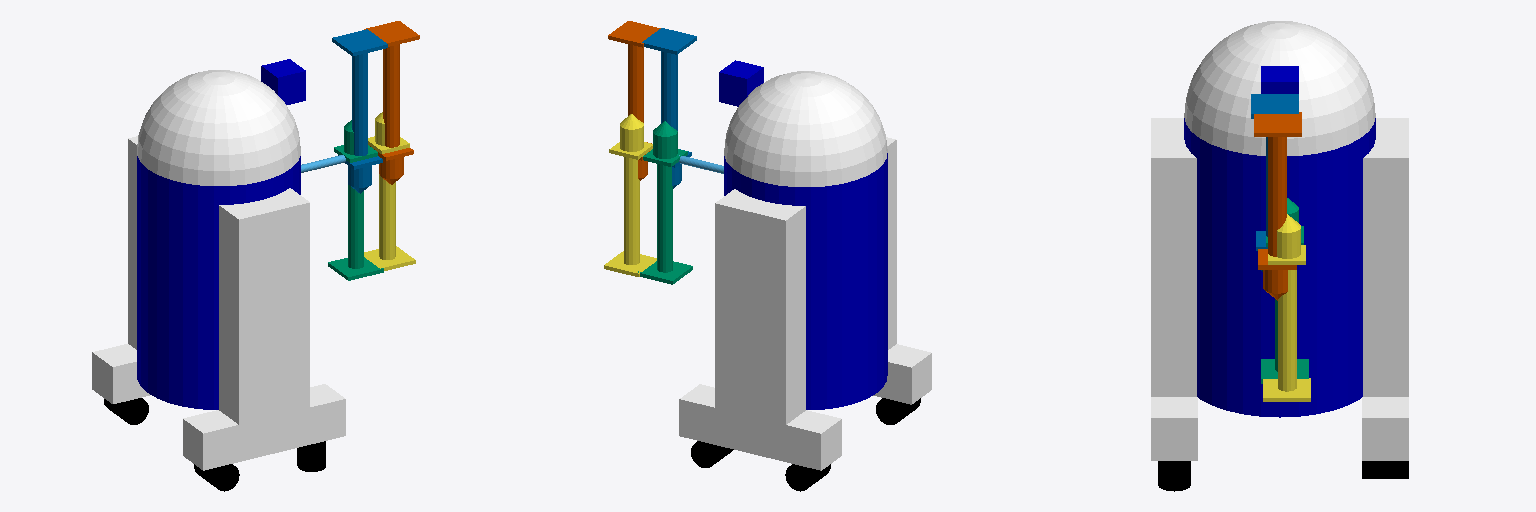
robot.urdf — visual:
<?xml version="1.0"?>
<robot name="visual">

<material name="blue">
    <color rgba="0 0 0.8 1"/>
  </material>
  <material name="black">
    <color rgba="0 0 0 1"/>
  </material>
  <material name="white">
    <color rgba="1 1 1 1"/>
  </material>

  <link name="base_link">
    <visual>
      <geometry>
        <cylinder length="0.6" radius="0.2"/>
      </geometry>
      <material name="blue"/>
    </visual>
  </link>

  <link name="right_leg">
    <visual>
      <geometry>
        <box size="0.6 0.1 0.2"/>
      </geometry>
      <origin rpy="0 1.57075 0" xyz="0 0 -0.3"/>
      <material name="white"/>
    </visual>
  </link>

  <joint name="base_to_right_leg" type="fixed">
    <parent link="base_link"/>
    <child link="right_leg"/>
    <origin xyz="0 -0.22 0.25"/>
  </joint>

  <link name="right_base">
    <visual>
      <geometry>
        <box size="0.4 0.1 0.1"/>
      </geometry>
      <material name="white"/>
    </visual>
  </link>

  <joint name="right_base_joint" type="fixed">
    <parent link="right_leg"/>
    <child link="right_base"/>
    <origin xyz="0 0 -0.6"/>
  </joint>

  <link name="right_front_wheel">
    <visual>
      <origin rpy="1.57075 0 0" xyz="0 0 0"/>
      <geometry>
        <cylinder length="0.1" radius="0.035"/>
      </geometry>
      <material name="black"/>
      <origin rpy="0 0 0" xyz="0 0 0"/>
    </visual>
  </link>
  <joint name="right_front_wheel_joint" type="fixed">
    <parent link="right_base"/>
    <child link="right_front_wheel"/>
    <origin rpy="0 0 0" xyz="0.133333333333 0 -0.085"/>
  </joint>

  <link name="right_back_wheel">
    <visual>
      <origin rpy="1.57075 0 0" xyz="0 0 0"/>
      <geometry>
        <cylinder length="0.1" radius="0.035"/>
      </geometry>
      <material name="black"/>
    </visual>
  </link>
  <joint name="right_back_wheel_joint" type="fixed">
    <parent link="right_base"/>
    <child link="right_back_wheel"/>
    <origin rpy="0 0 0" xyz="-0.133333333333 0 -0.085"/>
  </joint>

  <link name="left_leg">
    <visual>
      <geometry>
        <box size="0.6 0.1 0.2"/>
      </geometry>
      <origin rpy="0 1.57075 0" xyz="0 0 -0.3"/>
      <material name="white"/>
    </visual>
  </link>

  <joint name="base_to_left_leg" type="fixed">
    <parent link="base_link"/>
    <child link="left_leg"/>
    <origin xyz="0 0.22 0.25"/>
  </joint>

  <link name="left_base">
    <visual>
      <geometry>
        <box size="0.4 0.1 0.1"/>
      </geometry>
      <material name="white"/>
    </visual>
  </link>

  <joint name="left_base_joint" type="fixed">
    <parent link="left_leg"/>
    <child link="left_base"/>
    <origin xyz="0 0 -0.6"/>
  </joint>

  <link name="left_front_wheel">
    <visual>
      <origin rpy="1.57075 0 0" xyz="0 0 0"/>
      <geometry>
        <cylinder length="0.1" radius="0.035"/>
      </geometry>
      <material name="black"/>
    </visual>
  </link>
  <joint name="left_front_wheel_joint" type="fixed">
    <parent link="left_base"/>
    <child link="left_front_wheel"/>
    <origin rpy="0 0 0" xyz="0.133333333333 0 -0.085"/>
  </joint>

  <link name="left_back_wheel">
    <visual>
      <origin rpy="1.57075 0 0" xyz="0 0 0"/>
      <geometry>
        <cylinder length="0.1" radius="0.035"/>
      </geometry>
      <material name="black"/>
    </visual>
  </link>
  <joint name="left_back_wheel_joint" type="fixed">
    <parent link="left_base"/>
    <child link="left_back_wheel"/>
    <origin rpy="0 0 0" xyz="-0.133333333333 0 -0.085"/>
  </joint>

  <joint name="gripper_extension" type="fixed">
    <parent link="base_link"/>
    <child link="gripper_pole"/>
    <origin rpy="0 0 0" xyz="0.19 0 0.2"/>
  </joint>

  <link name="gripper_pole">
    <visual>
      <geometry>
        <cylinder length="0.2" radius="0.01"/>
      </geometry>
      <origin rpy="0 1.57075 0 " xyz="0.1 0 0"/>
    </visual>
  </link>

  <joint name="left_gripper_joint" type="fixed">
    <origin rpy="0 0 0" xyz="0.2 0.01 0"/>
    <parent link="gripper_pole"/>
    <child link="left_gripper"/>
  </joint>

  <link name="left_gripper">
    <visual>
      <origin rpy="0.0 0 0" xyz="0 0 0"/>
      <geometry>
        <mesh filename="package://robot_urdf/mesh/digging_link_3.STL"/>
      </geometry>
    </visual>
  </link>

  <joint name="left_tip_joint" type="fixed">
    <parent link="left_gripper"/>
    <child link="left_tip"/>
  </joint>

  <link name="left_tip">
    <visual>
      <origin rpy="0.0 0 0" xyz="0.09137 0.00495 0"/>
      <geometry>
        <mesh filename="package://robot_urdf/mesh/digging_link_3.STL"/>
      </geometry>
    </visual>
  </link>
  <joint name="right_gripper_joint" type="fixed">
    <origin rpy="0 0 0" xyz="0.2 -0.01 0"/>
    <parent link="gripper_pole"/>
    <child link="right_gripper"/>
  </joint>

  <link name="right_gripper">
    <visual>
      <origin rpy="-3.1415 0 0" xyz="0 0 0"/>
      <geometry>
        <mesh filename="package://robot_urdf/mesh/digging_link_3.STL"/>
      </geometry>
    </visual>
  </link>

  <joint name="right_tip_joint" type="fixed">
    <parent link="right_gripper"/>
    <child link="right_tip"/>
  </joint>

  <link name="right_tip">
    <visual>
      <origin rpy="-3.1415 0 0" xyz="0.09137 0.00495 0"/>
      <geometry>
        <mesh filename="package://robot_urdf/mesh/digging_link_3.STL"/>
      </geometry>
    </visual>
  </link>

  <link name="head">
    <visual>
      <geometry>
        <sphere radius="0.2"/>
      </geometry>
      <material name="white"/>
    </visual>
  </link>
  <joint name="head_swivel" type="fixed">
    <parent link="base_link"/>
    <child link="head"/>
    <origin xyz="0 0 0.3"/>
  </joint>

  <link name="box">
    <visual>
      <geometry>
        <box size="0.08 0.08 0.08"/>
      </geometry>
      <material name="blue"/>
    </visual>
  </link>

  <joint name="tobox" type="fixed">
    <parent link="head"/>
    <child link="box"/>
    <origin xyz="0.1814 0 0.1414"/>
  </joint>
</robot>

--- What the picture shows (computed from the rendered views, not written in the file) ---
Views: 3 orthographic renders of the robot side by side, from view 1: azimuth 30°, elevation 25°; view 2: azimuth 150°, elevation 25°; view 3: azimuth 270°, elevation 25°.
Robot: visual — 16 links, 15 joints (15 fixed); root link base_link; default pose: every joint at zero.
Links seen in each view (by area): view 1: right_leg, base_link, head, right_base, right_gripper, right_tip, left_tip, left_gripper, left_base, left_leg, box, right_back_wheel (+2 smaller); view 2: left_leg, base_link, head, left_base, left_gripper, left_tip, right_base, right_gripper, right_tip, right_leg, box, left_back_wheel (+2 smaller); view 3: base_link, head, right_leg, left_leg, left_tip, right_tip, right_base, left_base, right_gripper, box, left_gripper, right_front_wheel (+1 smaller).
Link boxes in pixels (box(x1,y1,x2,y2)): right_leg: box(219, 188, 309, 442); base_link: box(137, 156, 300, 409); head: box(137, 70, 300, 185); right_base: box(183, 384, 345, 470); right_gripper: box(332, 29, 387, 193); right_tip: box(364, 21, 419, 184); left_tip: box(364, 112, 415, 270); left_gripper: box(328, 120, 383, 280); left_base: box(92, 344, 149, 403); left_leg: box(128, 136, 137, 349); box: box(261, 59, 305, 104); right_back_wheel: box(194, 464, 239, 491); left_leg: box(715, 189, 805, 442); base_link: box(724, 153, 887, 409); head: box(724, 71, 887, 186); left_base: box(679, 384, 841, 470); left_gripper: box(638, 121, 692, 284); left_tip: box(604, 114, 656, 276); right_base: box(873, 344, 931, 404); right_gripper: box(642, 28, 696, 188); right_tip: box(608, 21, 660, 180); right_leg: box(886, 137, 896, 349); box: box(719, 60, 763, 106); left_back_wheel: box(785, 464, 830, 491); base_link: box(1184, 118, 1375, 417); head: box(1184, 21, 1375, 155); right_leg: box(1151, 118, 1196, 396); left_leg: box(1363, 118, 1408, 396); left_tip: box(1263, 214, 1310, 401); right_tip: box(1254, 112, 1301, 300); right_base: box(1151, 397, 1197, 460); left_base: box(1362, 397, 1408, 460); right_gripper: box(1251, 94, 1298, 271); box: box(1261, 66, 1298, 93); left_gripper: box(1261, 198, 1308, 383); right_front_wheel: box(1158, 461, 1190, 491).
Bounding box of the posed robot: 0.7314 × 0.54 × 0.995 m (x, y, z).
4 mesh visuals loaded from 1 distinct referenced files (1 binary STL).